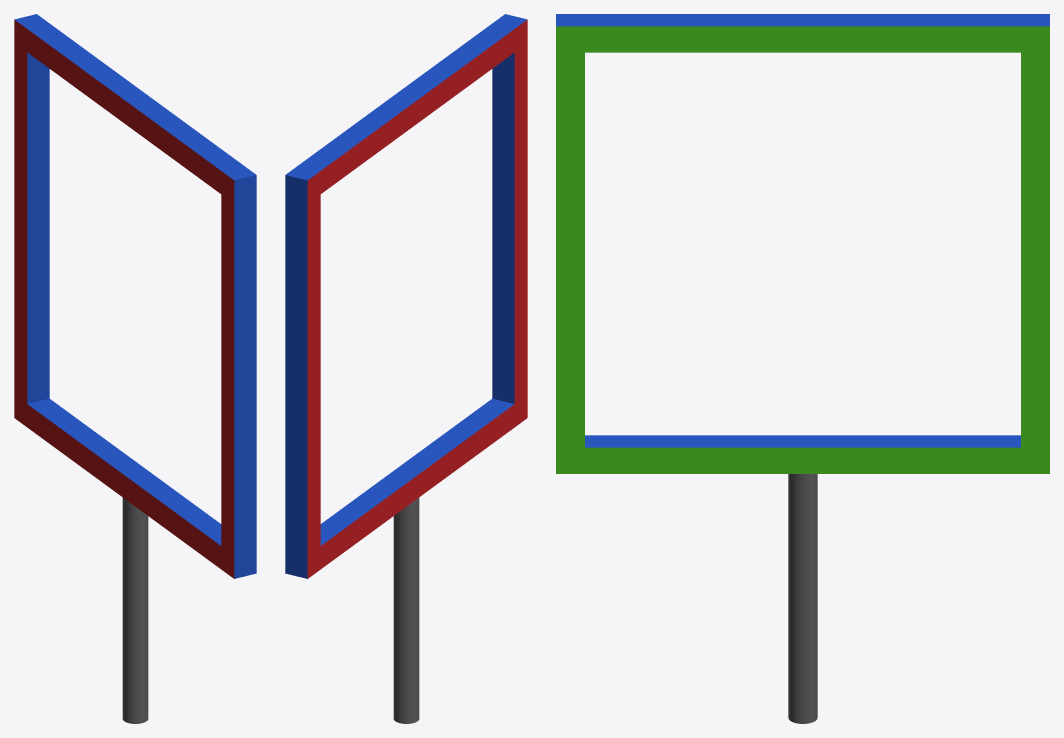
Rendered from frame_1_8.dae.
3 renders of one model, left to right at view 1: azimuth 30°, elevation 25°; view 2: azimuth 150°, elevation 25°; view 3: azimuth 270°, elevation 25°, orthographic. The views are drawn at different scales.
Visible parts, largest first — view 1: Plane; view 2: Plane; view 3: Plane.
Boxes of the visible parts, x1,y1,x2,y2 form: Plane: [14, 14, 256, 723]; Plane: [285, 14, 527, 723]; Plane: [556, 14, 1049, 723].
Bounding box in the file's own units: 0.1 × 1.7 × 2.65.
Materials: 1 (1 with a texture image).
